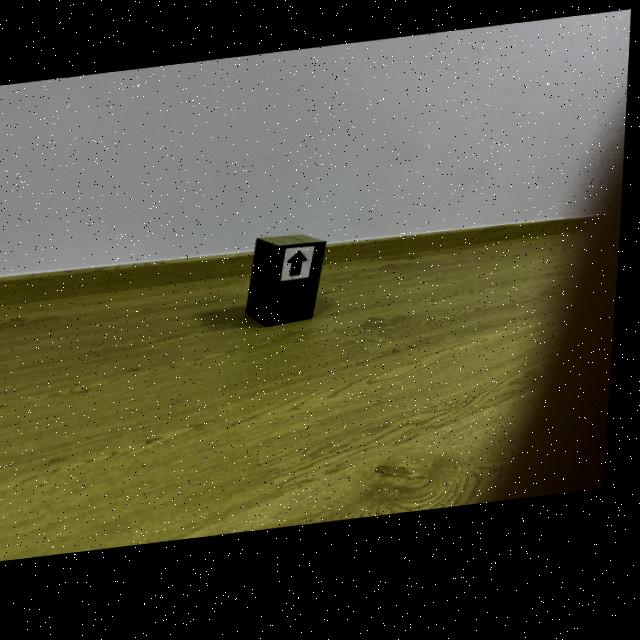UP: (291, 257, 312, 282)
